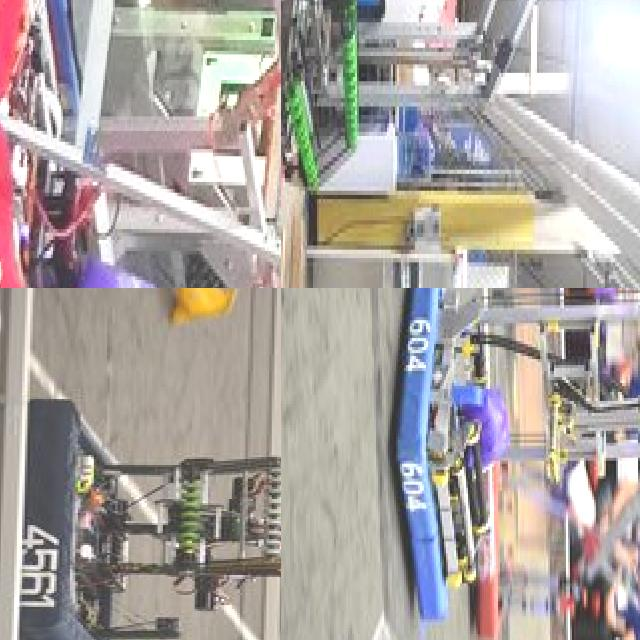FRC-Robots: (390, 288, 640, 640), (0, 0, 281, 288), (21, 369, 281, 640), (281, 0, 553, 224), (469, 404, 605, 640)
